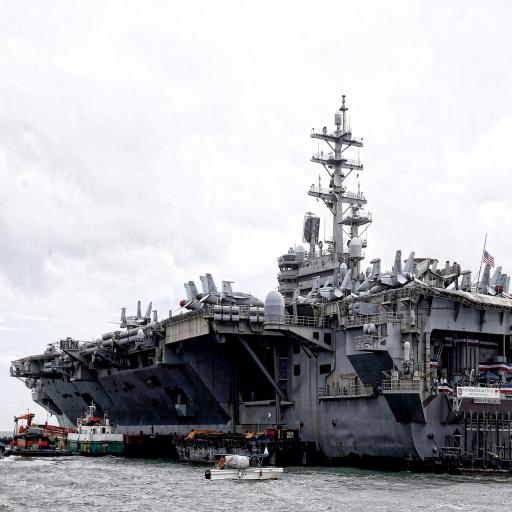Portanaves: (11, 92, 512, 480)
